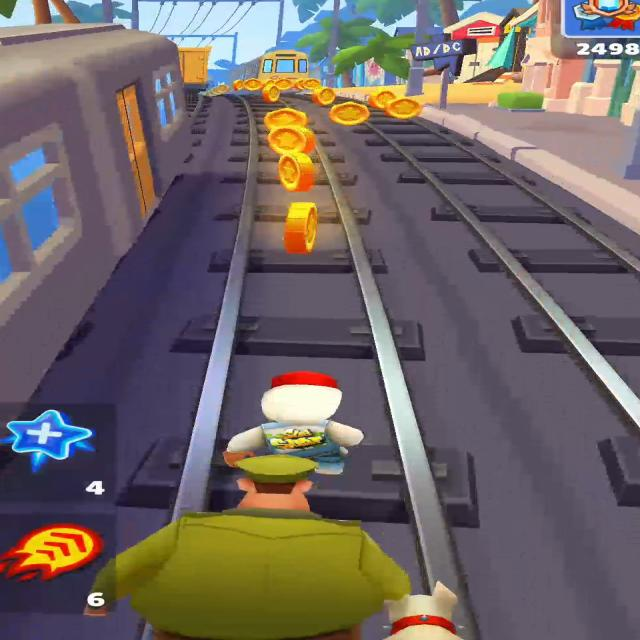police: (91, 455, 411, 640)
train: (0, 23, 189, 405), (179, 46, 211, 87), (261, 51, 306, 78)
